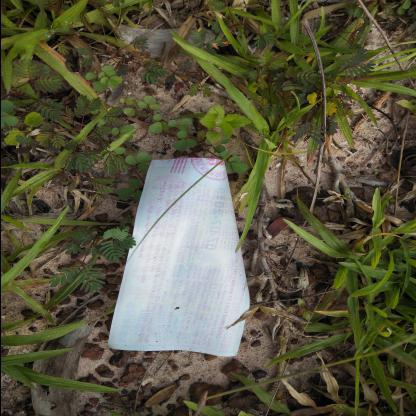kagit: (107, 158, 253, 358)
